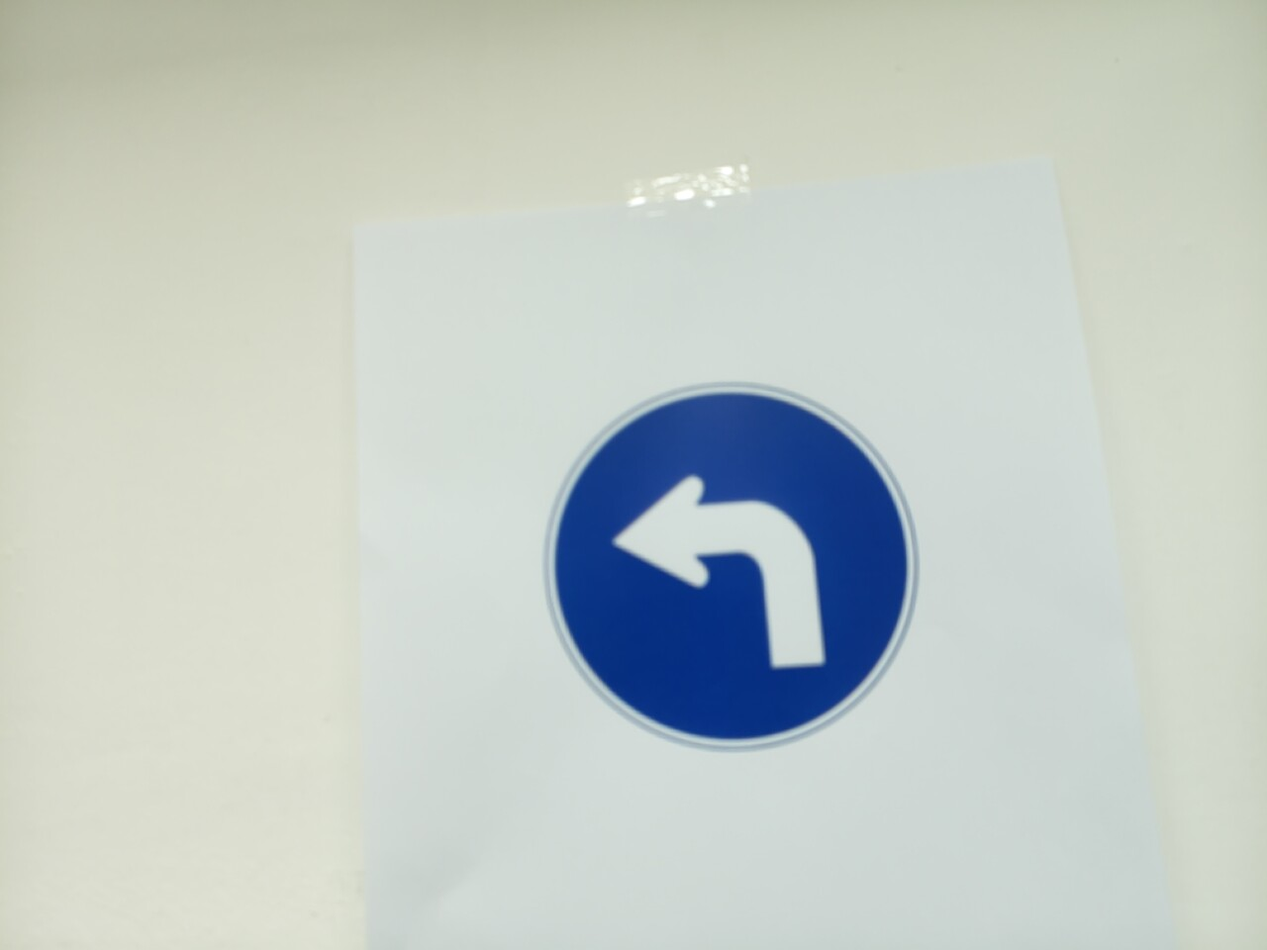left_turn: (543, 382, 919, 750)
